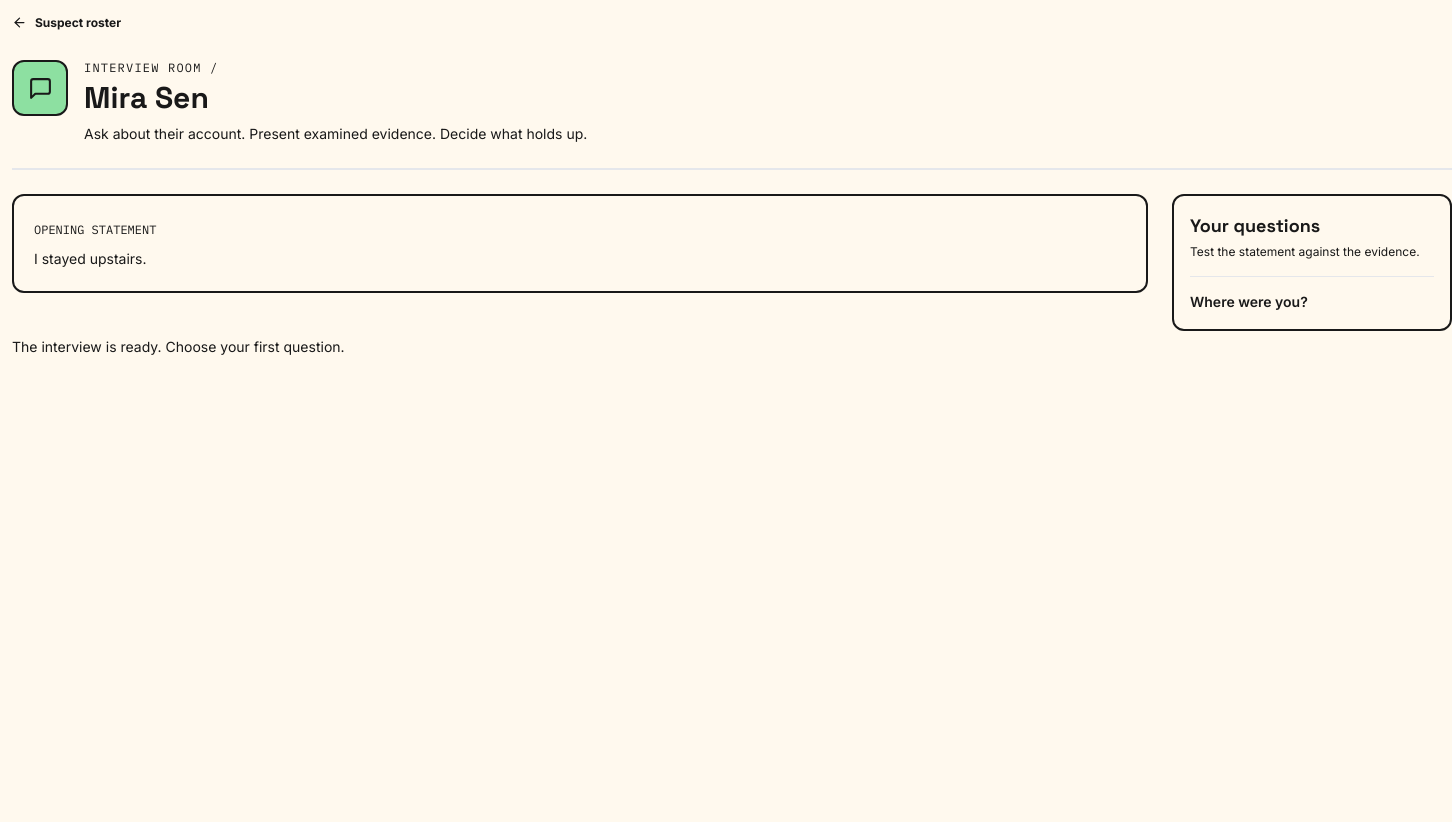
Test: asks a case question and pins the resulting statement to its case board
The width and height of the screenshot is (1452, 822).
Click the button "Where were you?": click(1249, 302) [1190,292,1308,312]
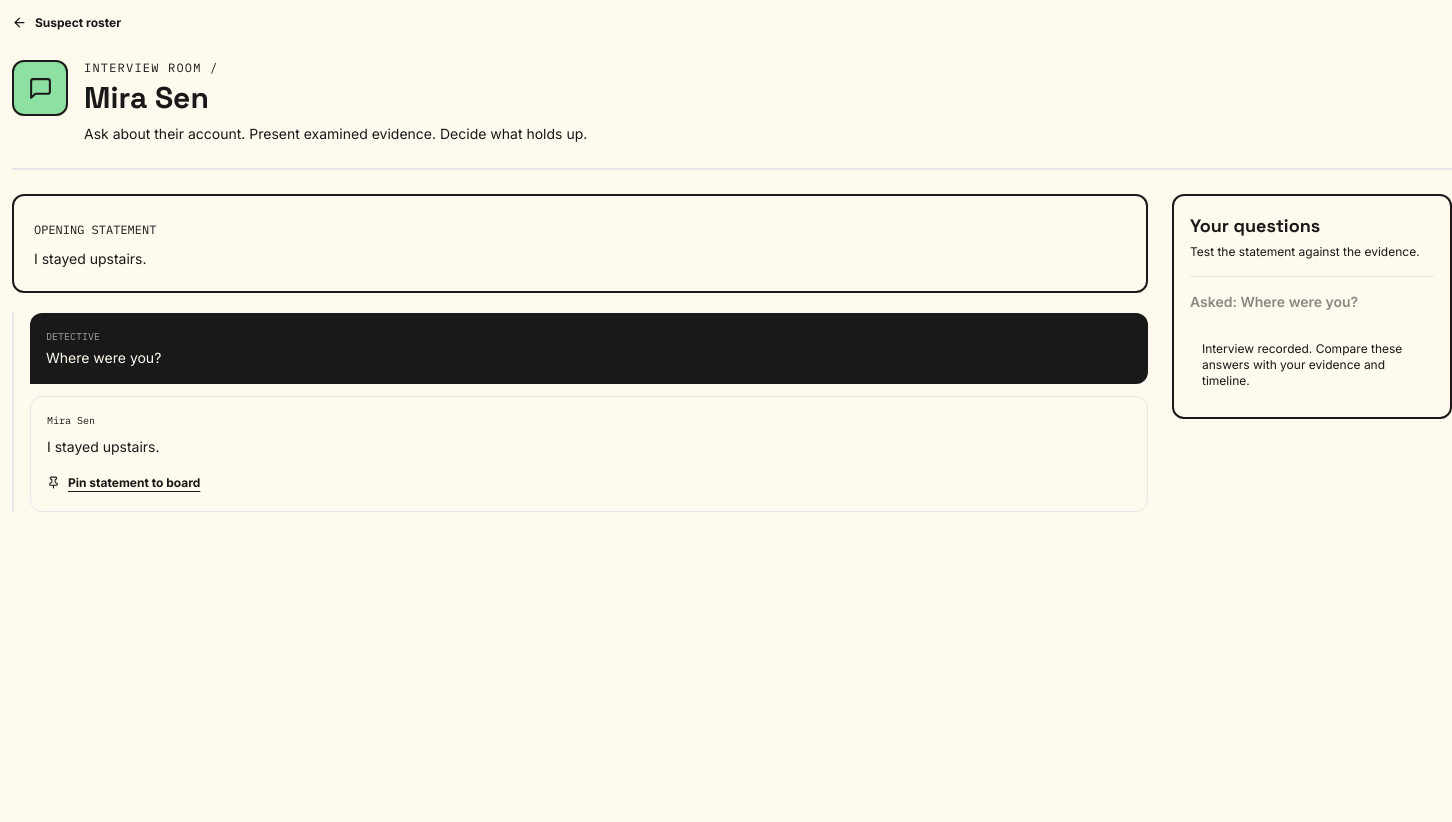
Click the button "Pin statement to board": click(124, 482) [47,474,200,490]
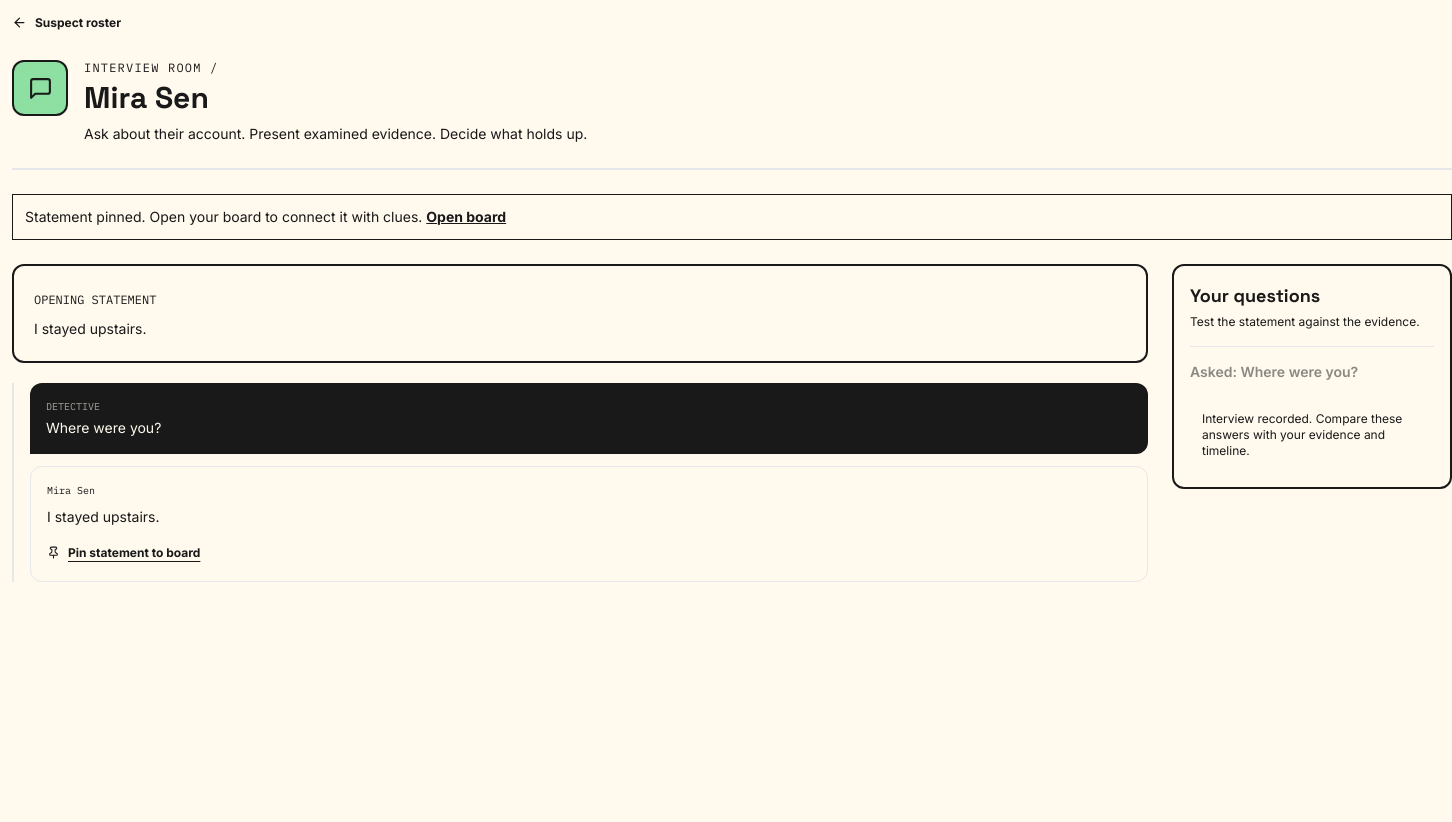
Expected: the text "Statement pinned. Open your board to connect it with clues. Open board" is shown, [12,194,1451,240]
